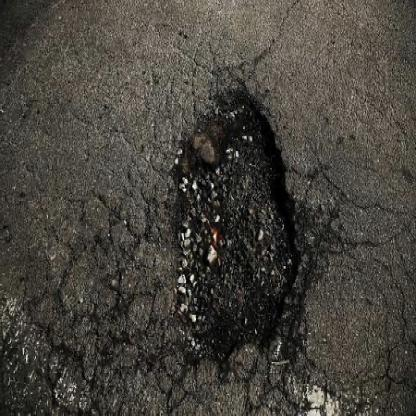pothole: (166, 80, 312, 374)
